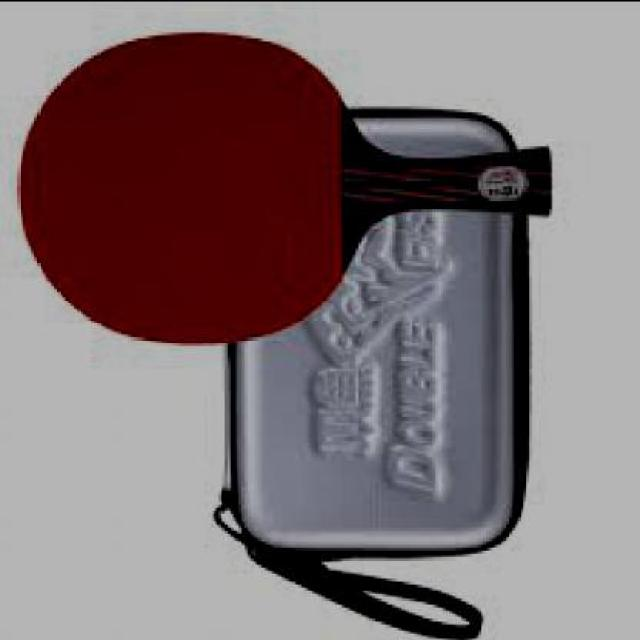table_tennis_racket: (18, 32, 554, 346)
